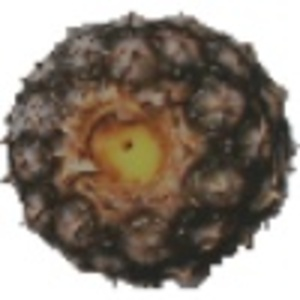abacaxi: (8, 14, 291, 275)
